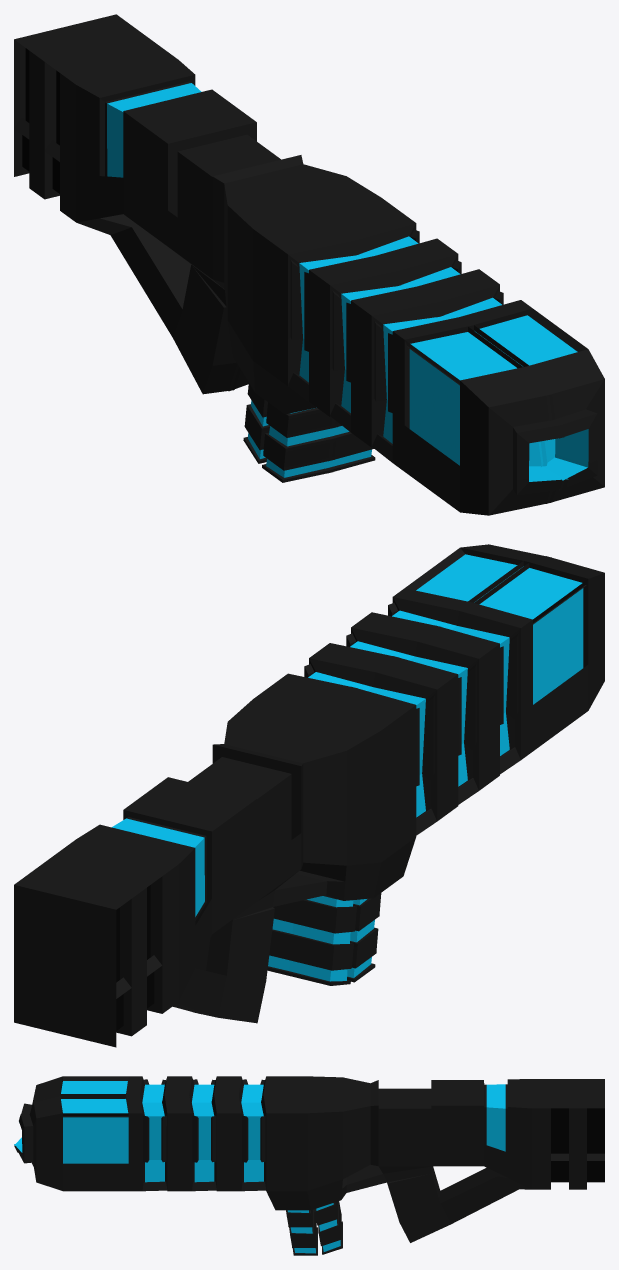
The model's file is arma2.fbx.
3 views of the same model, one above another, from view 1: azimuth 30°, elevation 25°; view 2: azimuth 150°, elevation 25°; view 3: azimuth 270°, elevation 25° (orthographic). The views are drawn at different scales.
Visible parts, largest first — view 1: ARMA; view 2: ARMA; view 3: ARMA.
Part boxes in pixels (box(x1,y1,x2,y2)): ARMA: box(14, 14, 604, 515); ARMA: box(14, 544, 604, 1047); ARMA: box(14, 1076, 604, 1255).
Bounding box in the file's own units: 0.491 × 0.9219 × 3.3.
